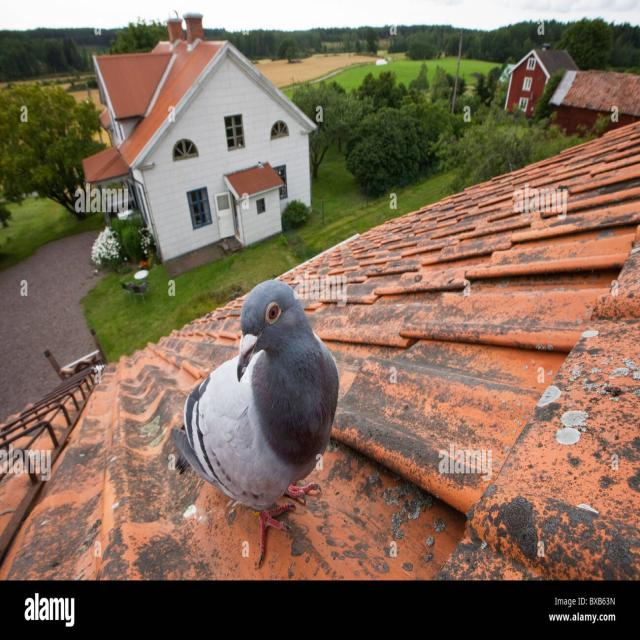bird: (169, 278, 341, 566)
